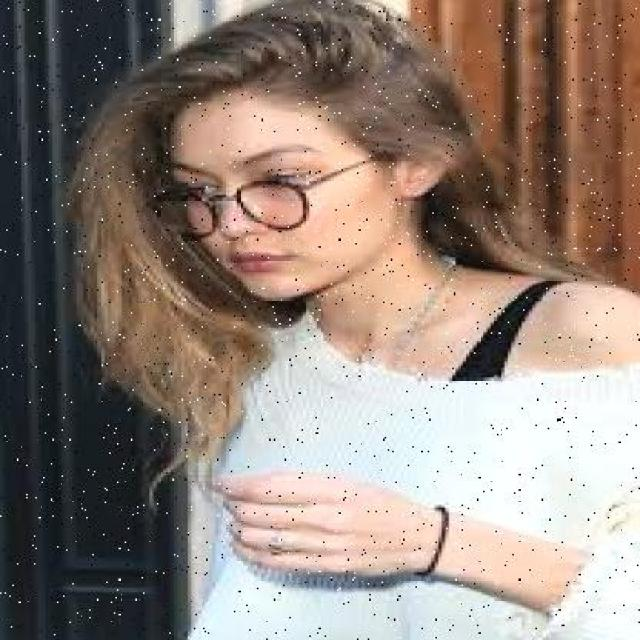glasses: (146, 177, 331, 232)
